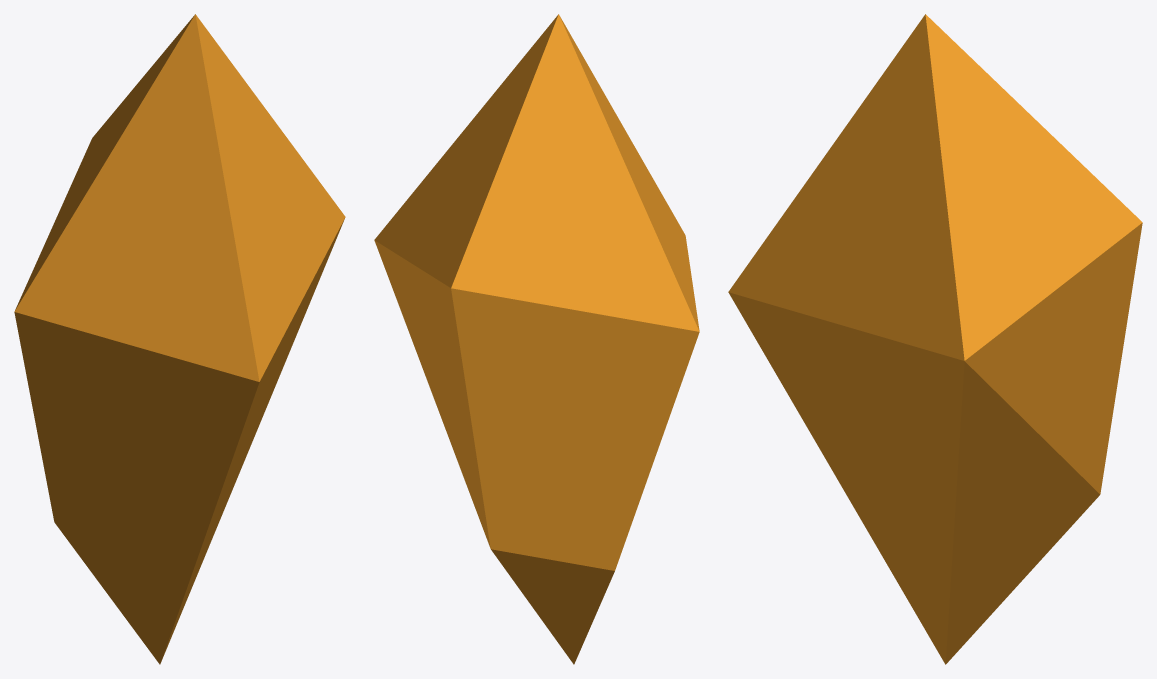
Rendered from Crystal-Item03.fbx.
3 views of the same model, side by side, from view 1: azimuth 30°, elevation 25°; view 2: azimuth 150°, elevation 25°; view 3: azimuth 270°, elevation 25° (orthographic). The views are drawn at different scales.
Visible parts, largest first — view 1: Crystal-Item03; view 2: Crystal-Item03; view 3: Crystal-Item03.
Part boxes in pixels (x1,y1,x2,y2): Crystal-Item03: (14,14,345,664); Crystal-Item03: (374,14,699,664); Crystal-Item03: (728,14,1142,664).
Bounding box in the file's own units: 42.75 × 80.23 × 45.41.
